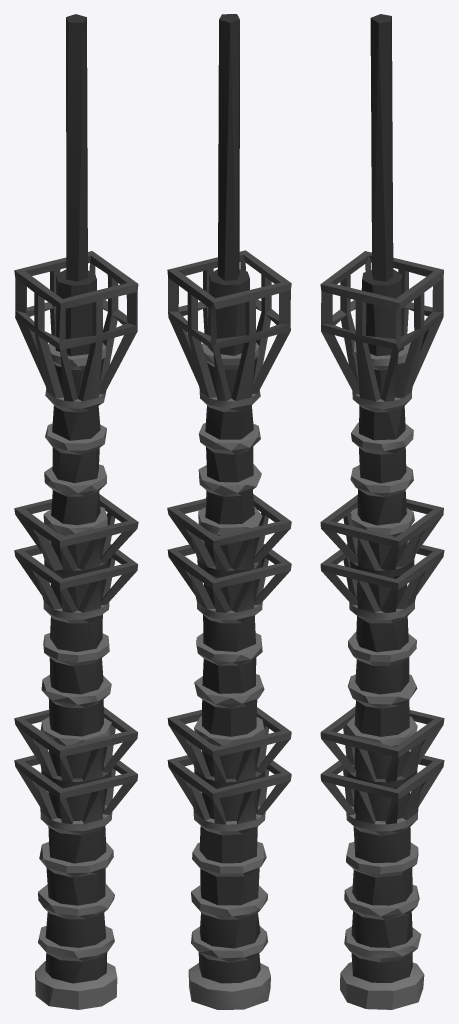
File: antenna.glb
3 renders of one model, left to right at view 1: azimuth 30°, elevation 25°; view 2: azimuth 210°, elevation 25°; view 3: azimuth 330°, elevation 25°, orthographic.
Visible parts, largest first — view 1: ruin_building_9_atlass_1_0; view 2: ruin_building_9_atlass_1_0; view 3: ruin_building_9_atlass_1_0.
Part boxes in pixels (bbox=[...]): ruin_building_9_atlass_1_0: bbox=[14, 14, 138, 1009]; ruin_building_9_atlass_1_0: bbox=[167, 14, 291, 1009]; ruin_building_9_atlass_1_0: bbox=[320, 14, 444, 1009].
Size of the model in its own units: 12.48 by 145 by 12.48.
1 material, 1 textured.
